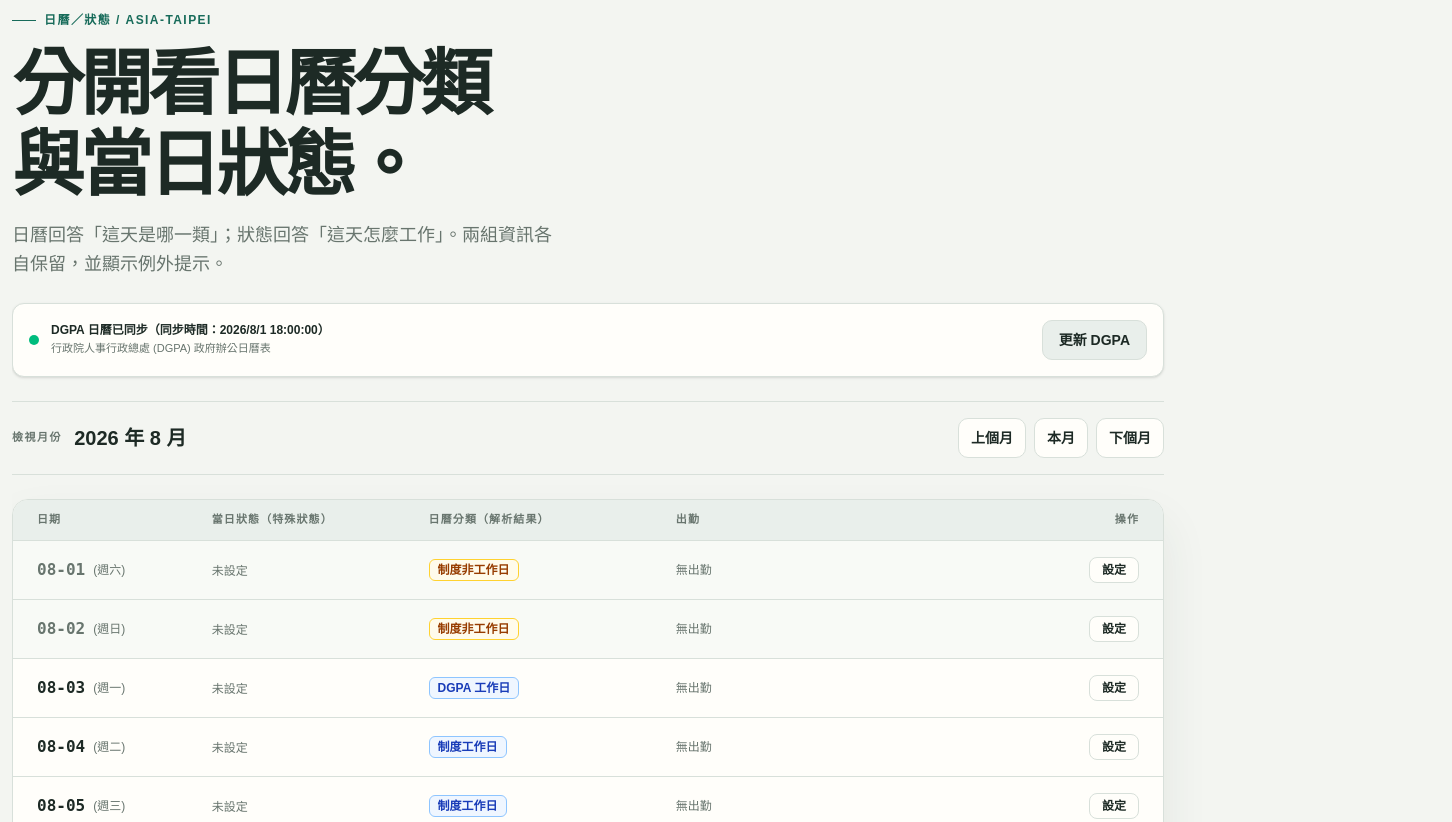
Test: LeaveView › 支援點擊「更新 DGPA」呼叫 Edge Function 並在成功後重新載入資料
Click the button with test id "sync-dgpa-button" at (1094, 340), box [1042,320,1147,360]
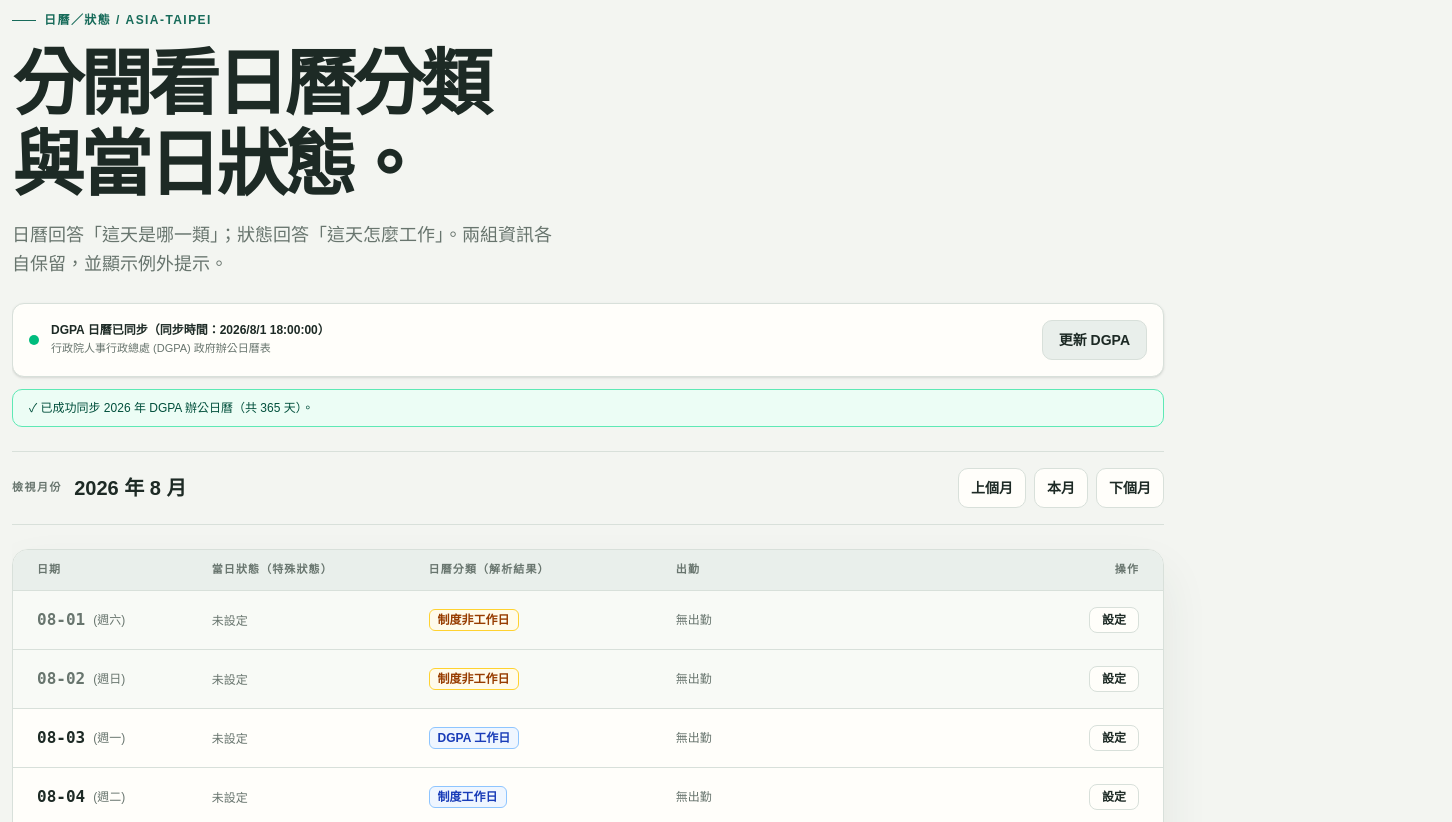
Expected: the message "✓ 已成功同步 2026 年 DGPA 辦公日曆（共 365 天）。" is shown, [12,389,1164,427]
Expected: the message with test id "sync-success-alert" shows "已成功同步 2026 年 DGPA 辦公日曆", [29,401,314,415]
